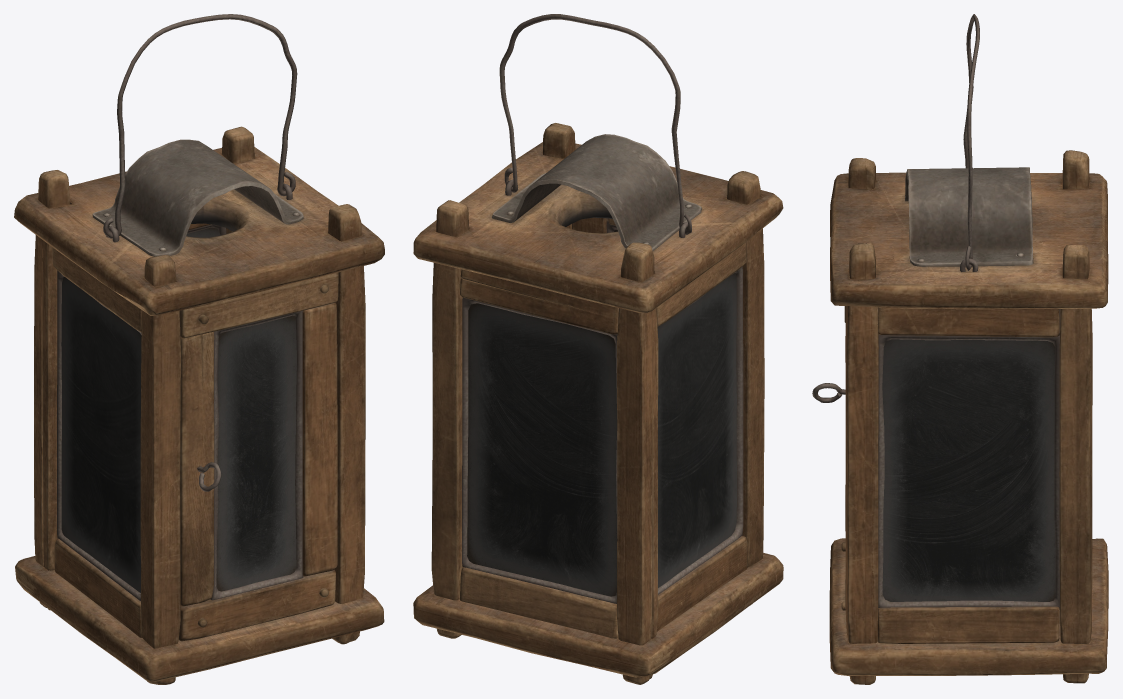
The model's file is wooden_lantern_01.glb.
3 renders of one model, left to right at view 1: azimuth 30°, elevation 25°; view 2: azimuth 150°, elevation 25°; view 3: azimuth 270°, elevation 25°, orthographic.
Visible parts, largest first — view 1: wooden_lantern_01, wooden_lantern_01_door, wooden_lantern_01_handle; view 2: wooden_lantern_01, wooden_lantern_01_handle, wooden_lantern_01_door; view 3: wooden_lantern_01, wooden_lantern_01_handle, wooden_lantern_01_door.
Part boxes in pixels (x1,y1,x2,y2): wooden_lantern_01: (14, 126, 384, 684); wooden_lantern_01_door: (179, 272, 338, 641); wooden_lantern_01_handle: (103, 14, 297, 238); wooden_lantern_01: (413, 123, 783, 684); wooden_lantern_01_handle: (499, 14, 691, 234); wooden_lantern_01_door: (572, 217, 617, 233); wooden_lantern_01: (829, 150, 1108, 684); wooden_lantern_01_handle: (963, 14, 979, 270); wooden_lantern_01_door: (812, 306, 846, 610).
Bounding box in the file's own units: 0.221 × 0.5302 × 0.2347.
2 materials, 2 textured.
